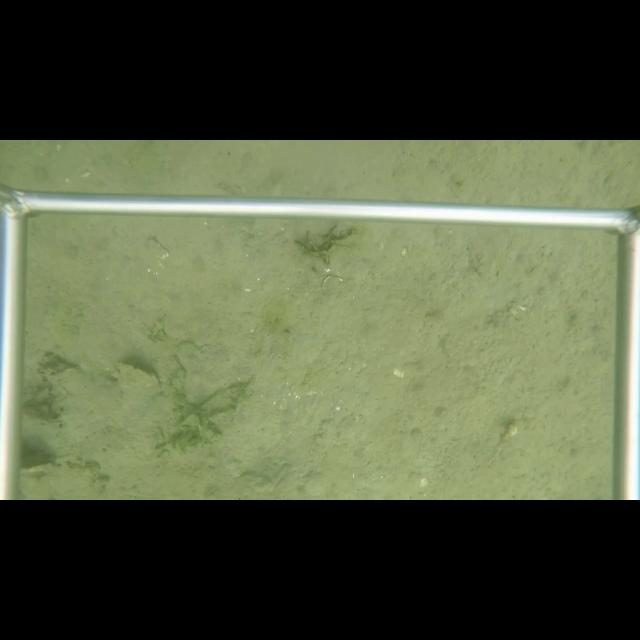Oyster-Closed: (110, 359, 164, 390)
